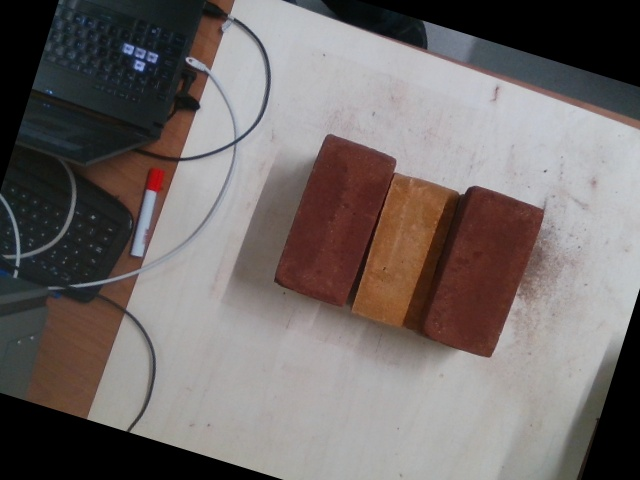brick: (425, 186, 546, 358), (274, 135, 394, 306), (351, 174, 460, 330)
